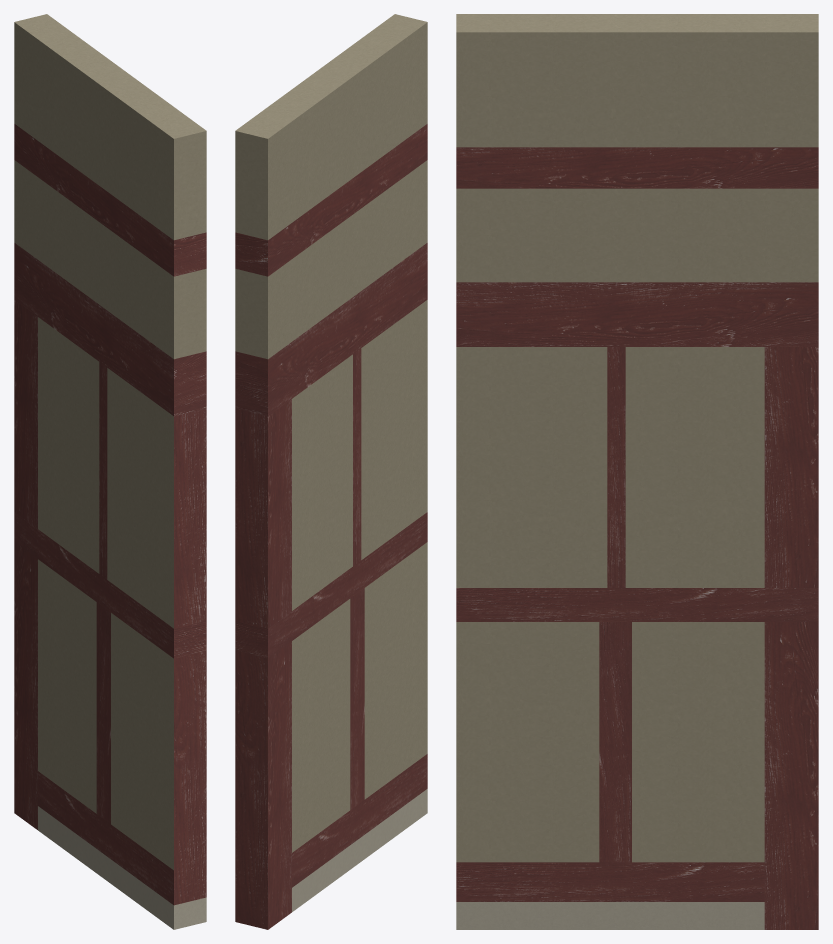
The model's file is SM_Sun_Pal_Wall_A.fbx.
The picture shows the model from 3 angles, left to right: view 1: azimuth 30°, elevation 25°; view 2: azimuth 150°, elevation 25°; view 3: azimuth 270°, elevation 25°; orthographic projection. The views are drawn at different scales.
Visible parts, largest first — view 1: SM_Sun_Pal_Wall_A; view 2: SM_Sun_Pal_Wall_A; view 3: SM_Sun_Pal_Wall_A.
Part boxes in pixels (x1,y1,x2,y2): SM_Sun_Pal_Wall_A: (14,14,206,929); SM_Sun_Pal_Wall_A: (235,14,427,929); SM_Sun_Pal_Wall_A: (456,14,818,929).
Size of the model in its own units: 20 by 460 by 168.
